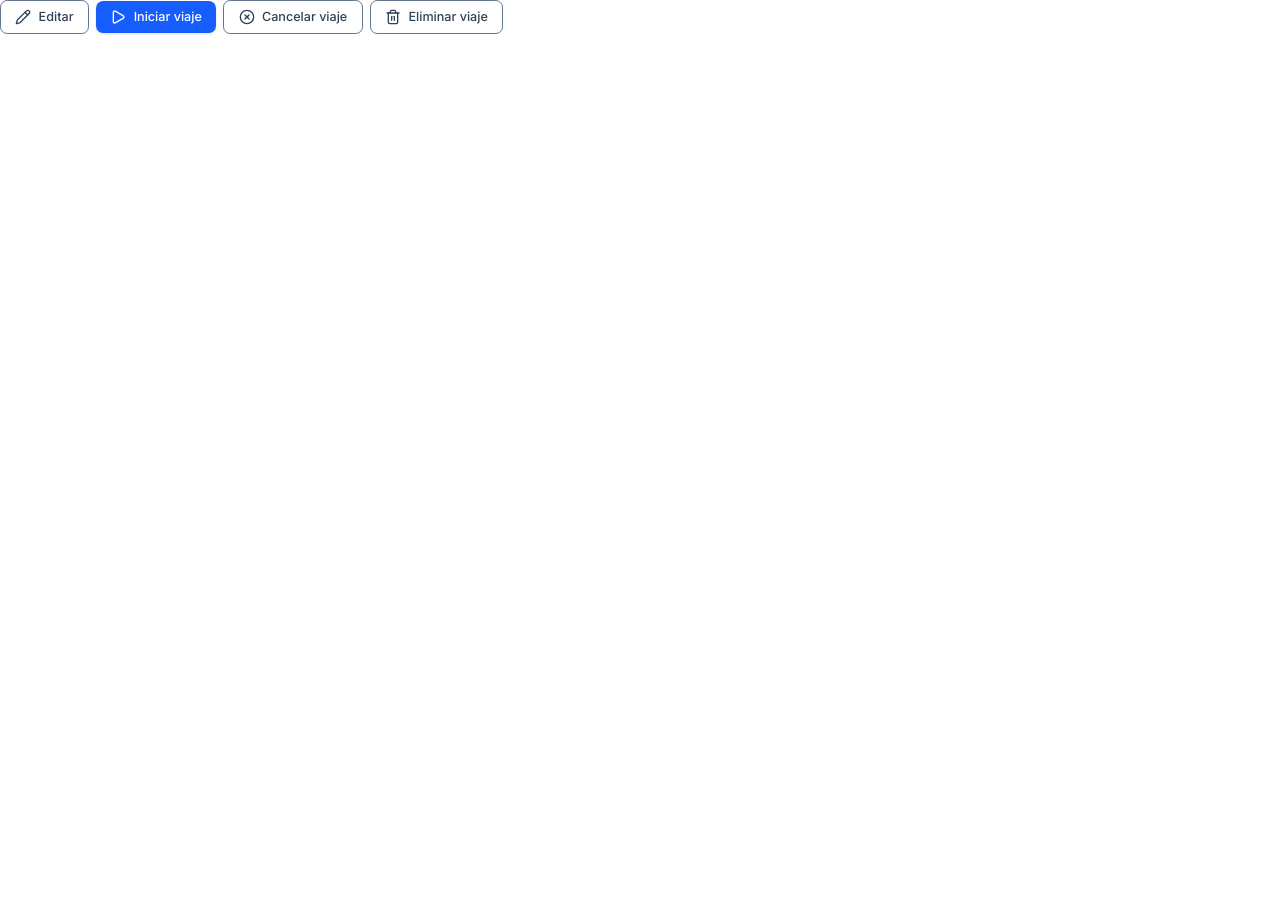
Test: ServiceStatusActions, la apertura › cierra el diálogo desde el botón de volver
The image size is (1280, 900).
Click the button "Iniciar viaje" at [156, 17], box [96,1,216,33]
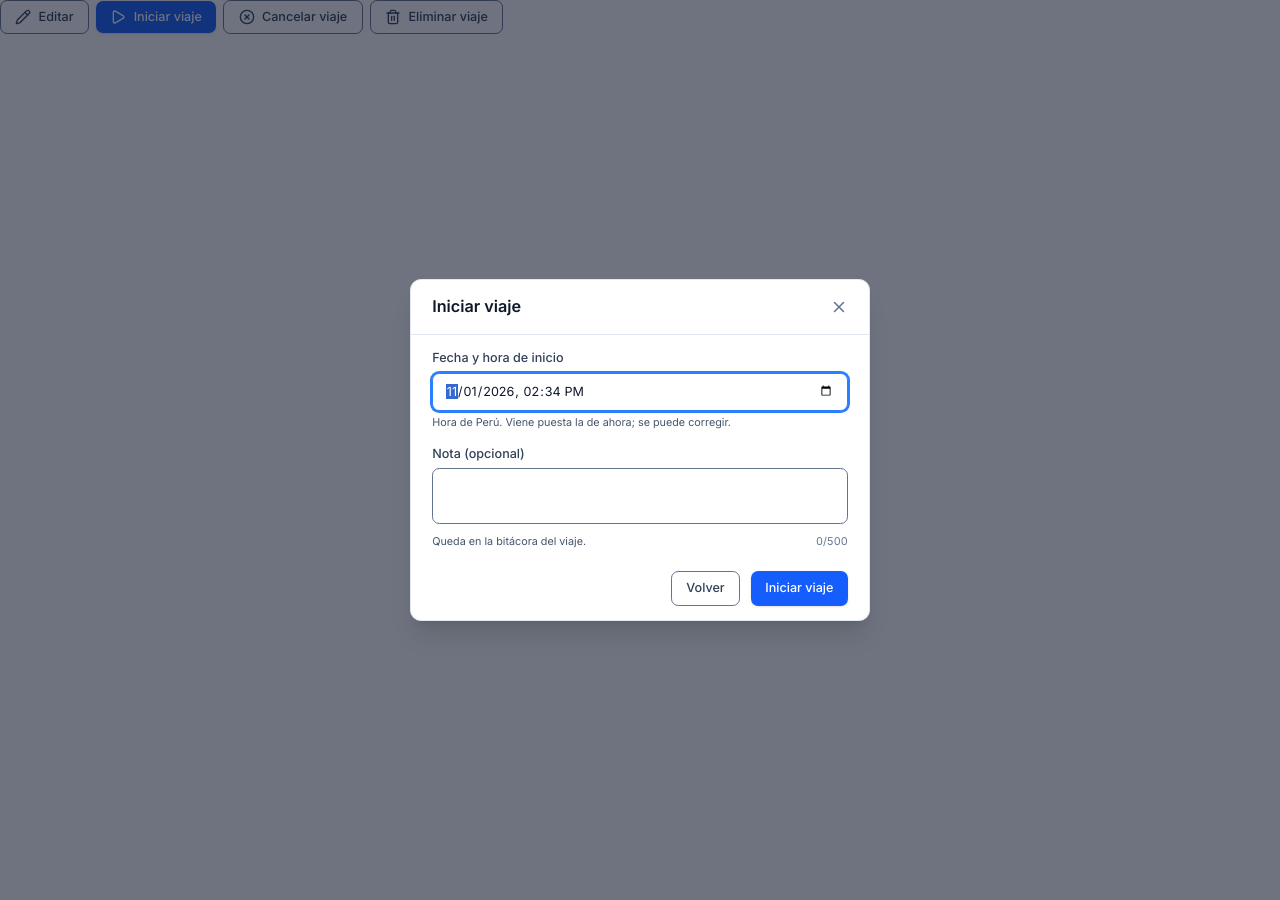
Expected: the dialog "Iniciar viaje" is shown, [410,279,870,621]
Click the button "Volver" at [706, 588], box [671,571,740,606]
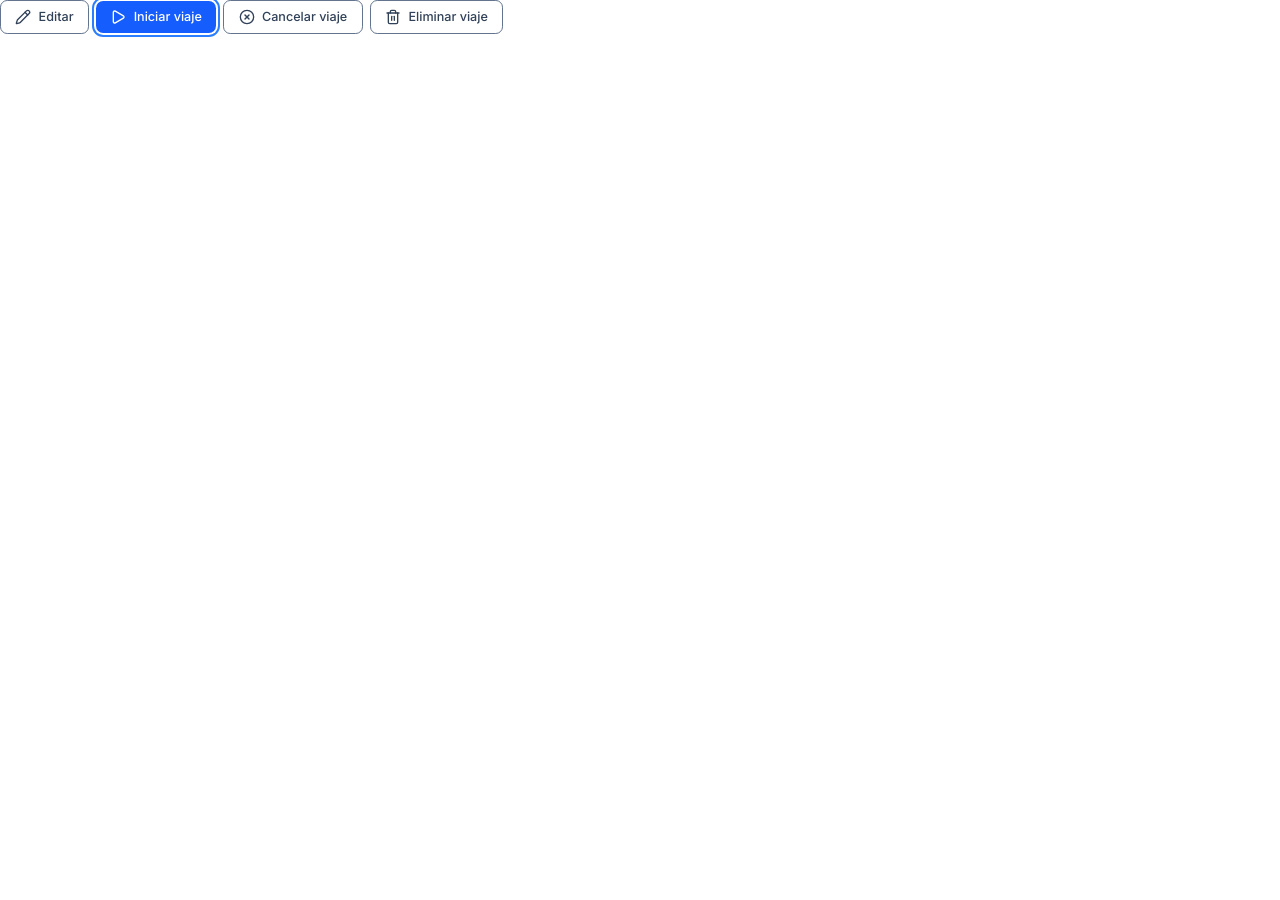
Expected: the dialog is gone
